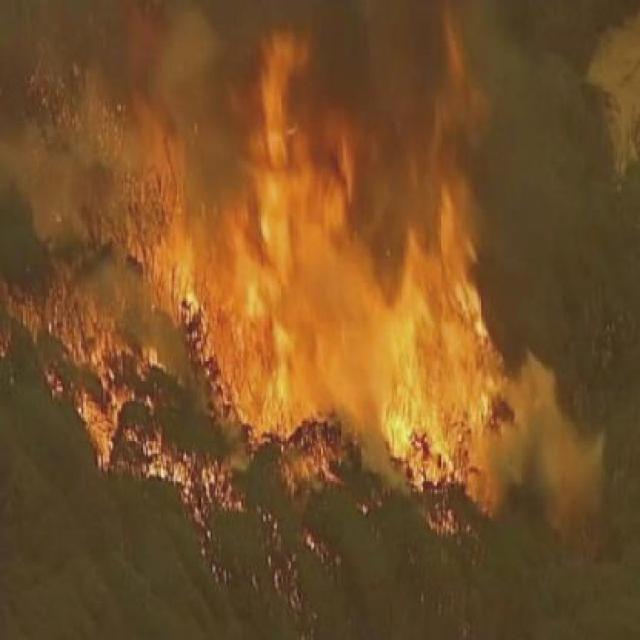Fire: (4, 12, 510, 570)
